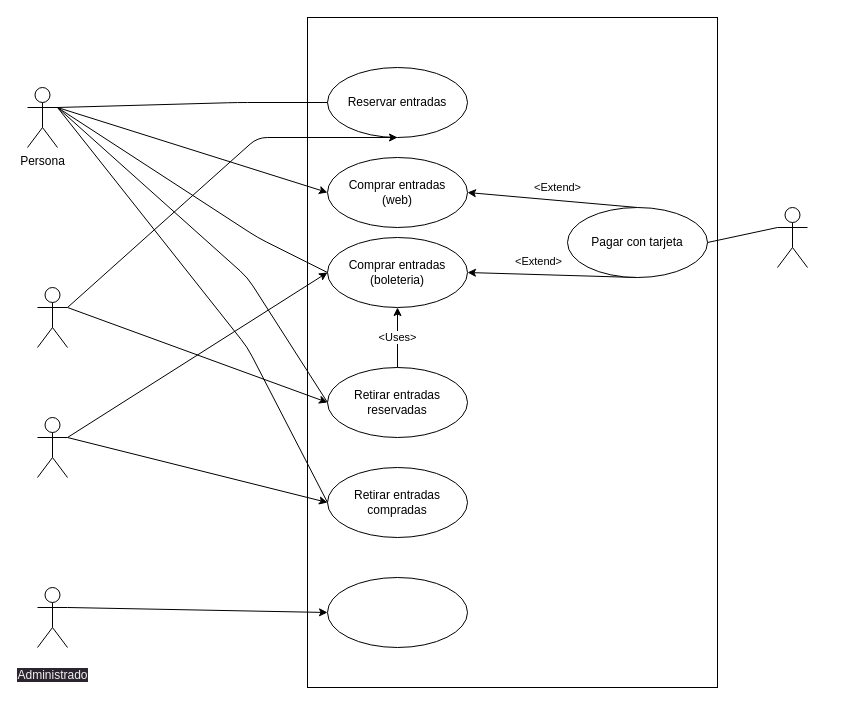
The diagram is 857 pixels wide and 705 high, and some of its shapes have lost their labels. The box of each missing label's shape, as (x1, y1, x2, y2) in pixels:
Administrar la programacion de las salas: (326, 576, 468, 648)
Empleado: (36, 286, 68, 348)
Sistema de banco: (776, 206, 808, 268)
Vendedor: (36, 416, 68, 478)
